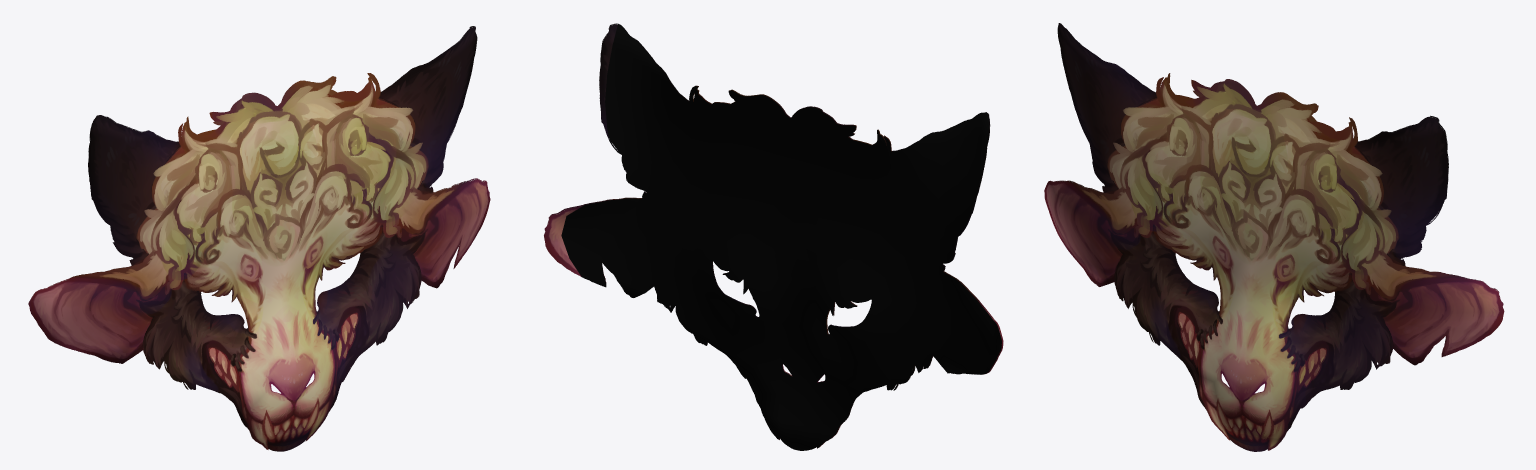
The model's file is Mask4.fbx.
The picture shows the model from 3 angles, left to right: view 1: azimuth 30°, elevation 25°; view 2: azimuth 150°, elevation 25°; view 3: azimuth 330°, elevation 25°; orthographic projection.
Visible parts, largest first — view 1: Mask4; view 2: Mask4; view 3: Mask4.
Part boxes in pixels (x1,y1,x2,y2): Mask4: (28,26,490,451); Mask4: (544,23,1003,450); Mask4: (1044,23,1504,451).
Bounding box in the file's own units: 4.54 × 3.51 × 0.6428.
Materials: 2 (1 with a texture image).
